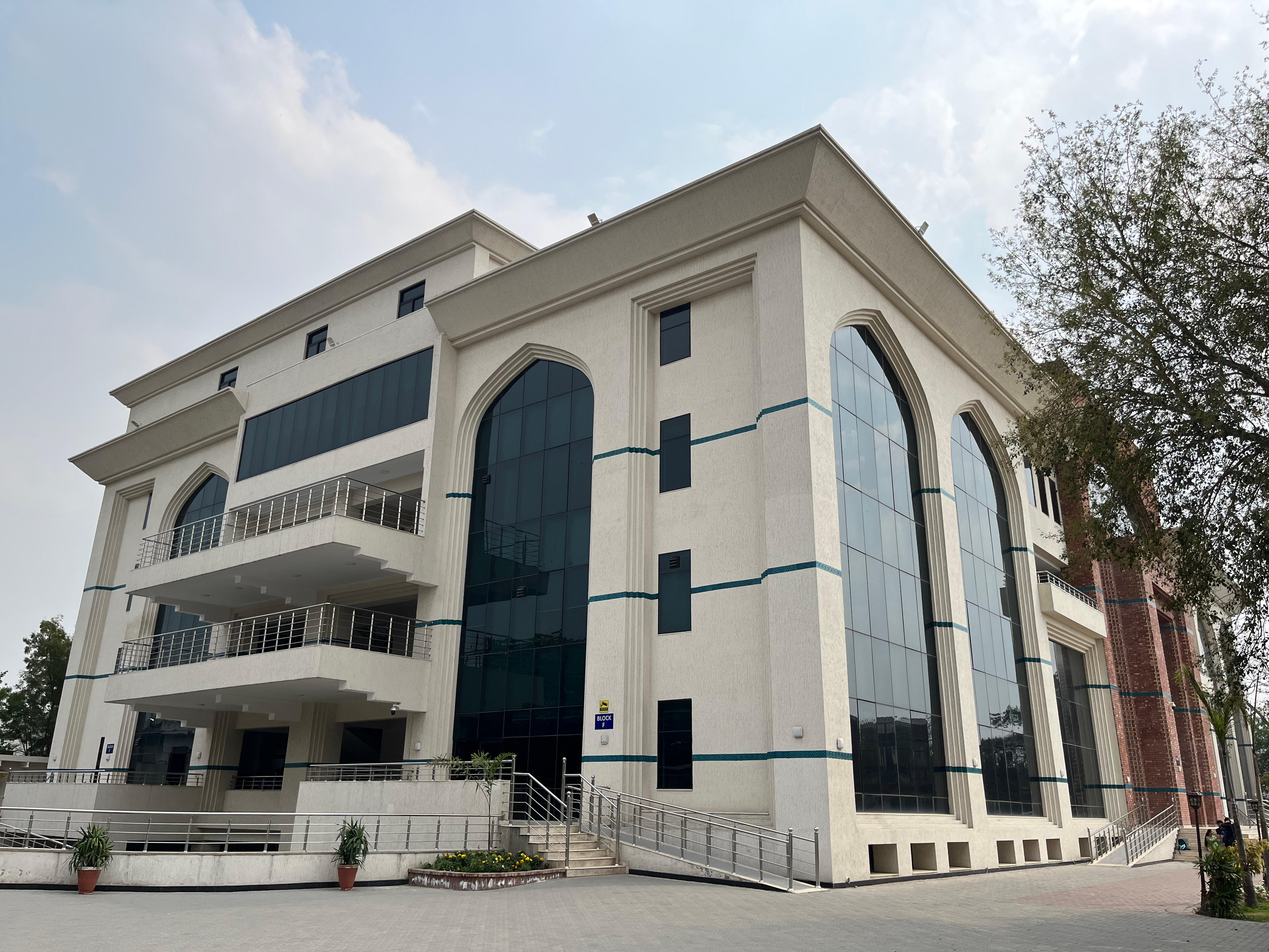Block F: (51, 122, 1260, 881)
